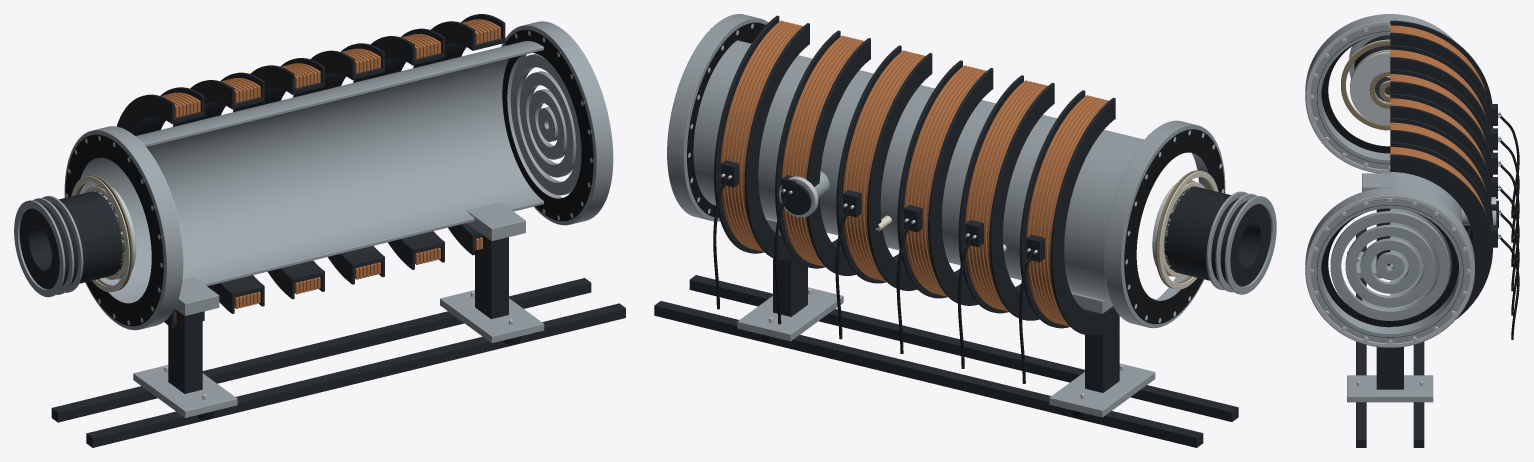
The model's file is separator.glb.
3 renders of one model, left to right at view 1: azimuth 30°, elevation 25°; view 2: azimuth 150°, elevation 25°; view 3: azimuth 270°, elevation 25°, orthographic. The views are drawn at different scales.
Parts seen in each view (by area): view 1: Vessel | rear section, Optical bench mounting rail, Optical bench mounting rail.001, Source body, Vacuum flange, Vacuum flange.001, Flange seal line.001, Flange seal line, Segmented annular end collector, Vessel support, Support foot, Support foot.001 (+19 smaller); view 2: Vessel | rear section, Optical bench mounting rail.001, Source body, Optical bench mounting rail, Vacuum flange.001, Flange seal line.001, Vacuum flange, Solenoid cheek plate.001, Solenoid cheek plate.011, Solenoid cheek plate.003, Solenoid cheek plate.005, Solenoid cheek plate.007 (+57 smaller); view 3: Vacuum flange, Vacuum flange.001, Segmented annular end collector, Solenoid cheek plate, Segmented annular end collector.003, Vessel | rear section, Machined flange lip, Support foot.001, Flange seal line, Source mounting bezel, Segmented annular end collector.002, Solenoid cheek plate.008 (+28 smaller).
Part boxes in pixels (x1=…): Vessel | rear section: x1=90, y1=41, x2=543, y2=302; Optical bench mounting rail: x1=86, y1=303, x2=625, y2=447; Optical bench mounting rail.001: x1=51, y1=278, x2=591, y2=422; Source body: x1=19, y1=191, x2=124, y2=289; Vacuum flange: x1=501, y1=21, x2=612, y2=225; Vacuum flange.001: x1=64, y1=126, x2=182, y2=330; Flange seal line.001: x1=65, y1=134, x2=163, y2=326; Flange seal line: x1=502, y1=29, x2=593, y2=221; Segmented annular end collector: x1=510, y1=53, x2=581, y2=195; Vessel support: x1=168, y1=310, x2=202, y2=393; Support foot: x1=133, y1=365, x2=237, y2=417; Support foot.001: x1=440, y1=290, x2=544, y2=343; Vessel | rear section: x1=693, y1=40, x2=1156, y2=301; Optical bench mounting rail.001: x1=654, y1=301, x2=1203, y2=447; Source body: x1=1164, y1=186, x2=1270, y2=286; Optical bench mounting rail: x1=689, y1=275, x2=1238, y2=421; Vacuum flange.001: x1=1104, y1=120, x2=1225, y2=328; Flange seal line.001: x1=1124, y1=129, x2=1224, y2=324; Vacuum flange: x1=667, y1=14, x2=768, y2=221; Solenoid cheek plate.001: x1=1050, y1=97, x2=1115, y2=335; Solenoid cheek plate.011: x1=744, y1=23, x2=809, y2=260; Solenoid cheek plate.003: x1=989, y1=82, x2=1054, y2=320; Solenoid cheek plate.005: x1=928, y1=68, x2=993, y2=305; Solenoid cheek plate.007: x1=867, y1=53, x2=932, y2=290; Vacuum flange: x1=1305, y1=187, x2=1474, y2=347; Vacuum flange.001: x1=1305, y1=14, x2=1454, y2=173; Segmented annular end collector: x1=1330, y1=211, x2=1449, y2=320; Solenoid cheek plate: x1=1390, y1=154, x2=1492, y2=319; Segmented annular end collector.003: x1=1345, y1=224, x2=1434, y2=307; Vessel | rear section: x1=1390, y1=172, x2=1461, y2=327; Machined flange lip: x1=1306, y1=195, x2=1474, y2=347; Support foot.001: x1=1347, y1=375, x2=1433, y2=402; Flange seal line: x1=1321, y1=212, x2=1458, y2=327; Source mounting bezel: x1=1350, y1=51, x2=1390, y2=125; Segmented annular end collector.002: x1=1360, y1=238, x2=1419, y2=293; Solenoid cheek plate.008: x1=1390, y1=105, x2=1492, y2=236.
Size of the model in its own units: 3.77 by 1.94 by 1.49.
